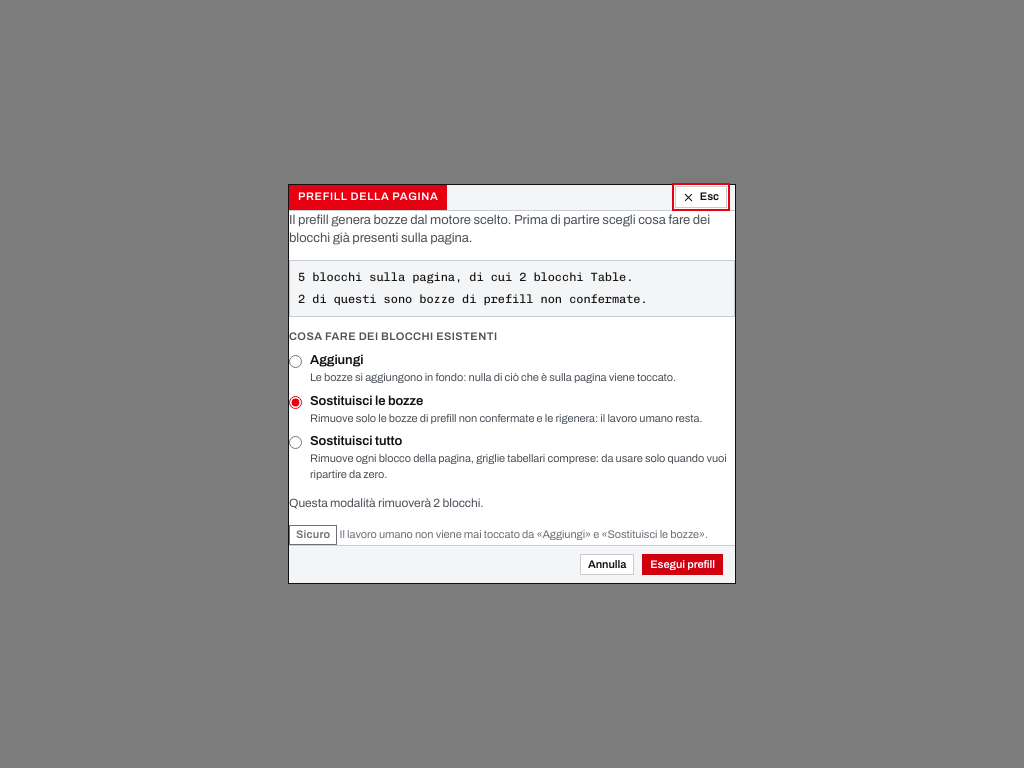
Scenario: PrefillDialog › «Sostituisci tutto» dichiara anche la distruzione delle griglie
The width and height of the screenshot is (1024, 768).
Click the radio button labelled "Sostituisci tutto": coordinates (296, 443) [289,436,302,450]
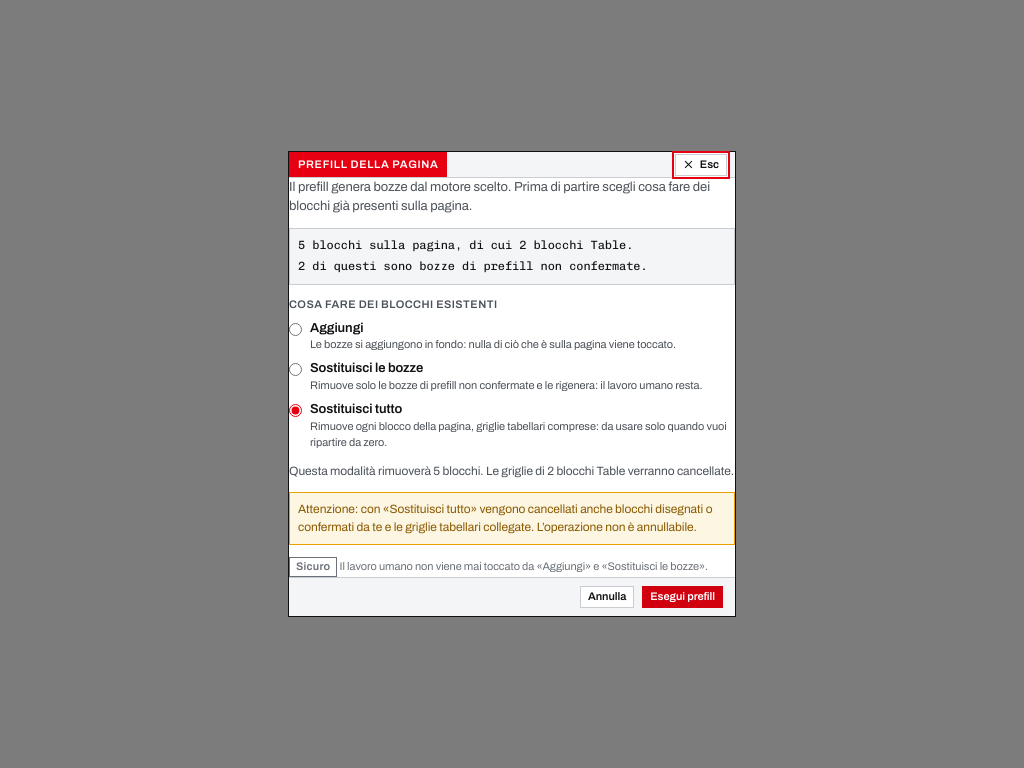
Expected: the text "rimuoverà 5 blocchi" is shown, [289,464,484,478]
Expected: the text "griglie di 2 blocchi Table" is shown, [484,464,734,478]
Expected: the text "Attenzione" is shown, [298,502,712,534]
